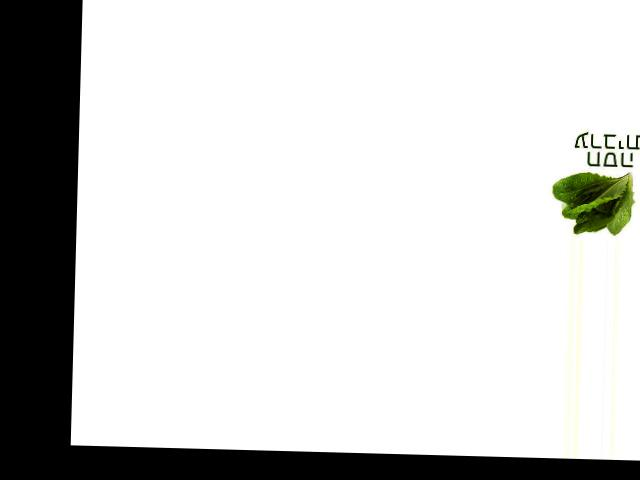lettuce: (550, 163, 640, 235)
